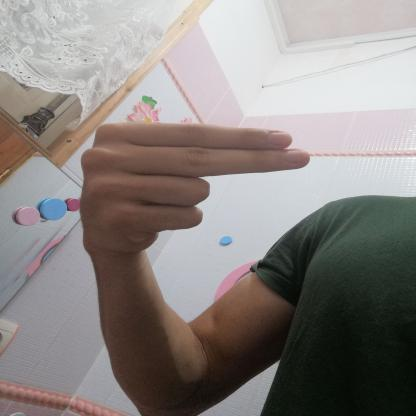AYN: (58, 109, 334, 269)
